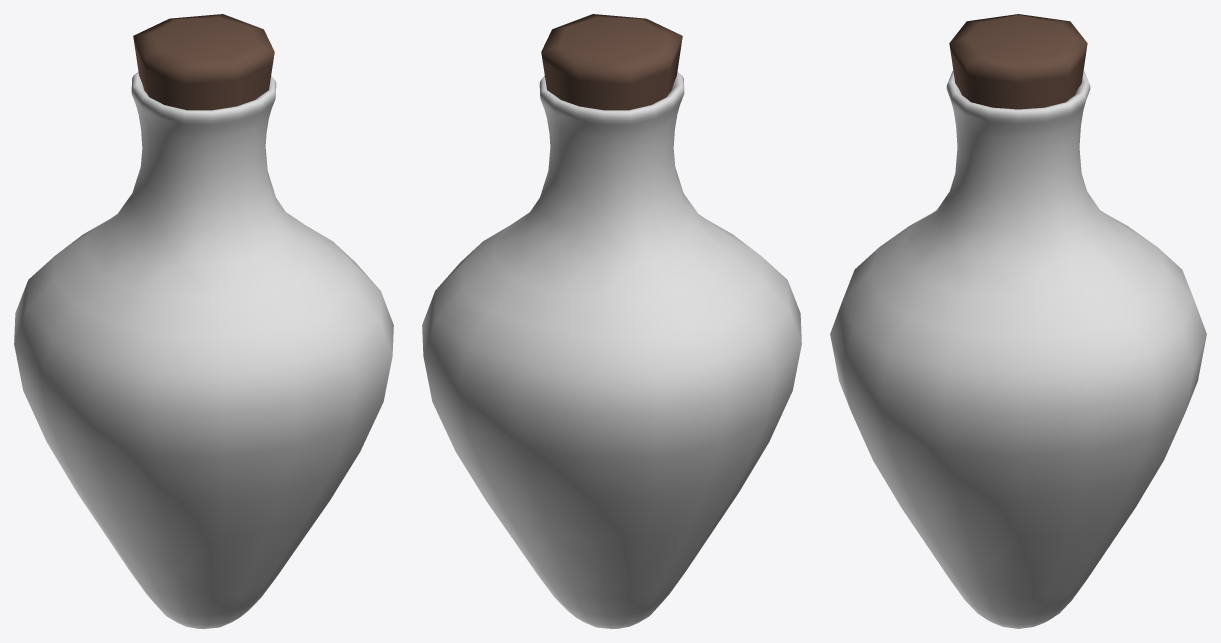
The model's file is SM_Potion4_Filled.fbx.
3 views of the same model, side by side, from view 1: azimuth 30°, elevation 25°; view 2: azimuth 150°, elevation 25°; view 3: azimuth 270°, elevation 25° (orthographic).
Visible parts, largest first — view 1: SM_Potion4_Filled; view 2: SM_Potion4_Filled; view 3: SM_Potion4_Filled.
Part boxes in pixels (x1,y1,x2,y2): SM_Potion4_Filled: [14, 14, 393, 628]; SM_Potion4_Filled: [422, 14, 801, 628]; SM_Potion4_Filled: [830, 14, 1206, 628].
Size of the model in its own units: 71.87 by 124 by 71.87.
